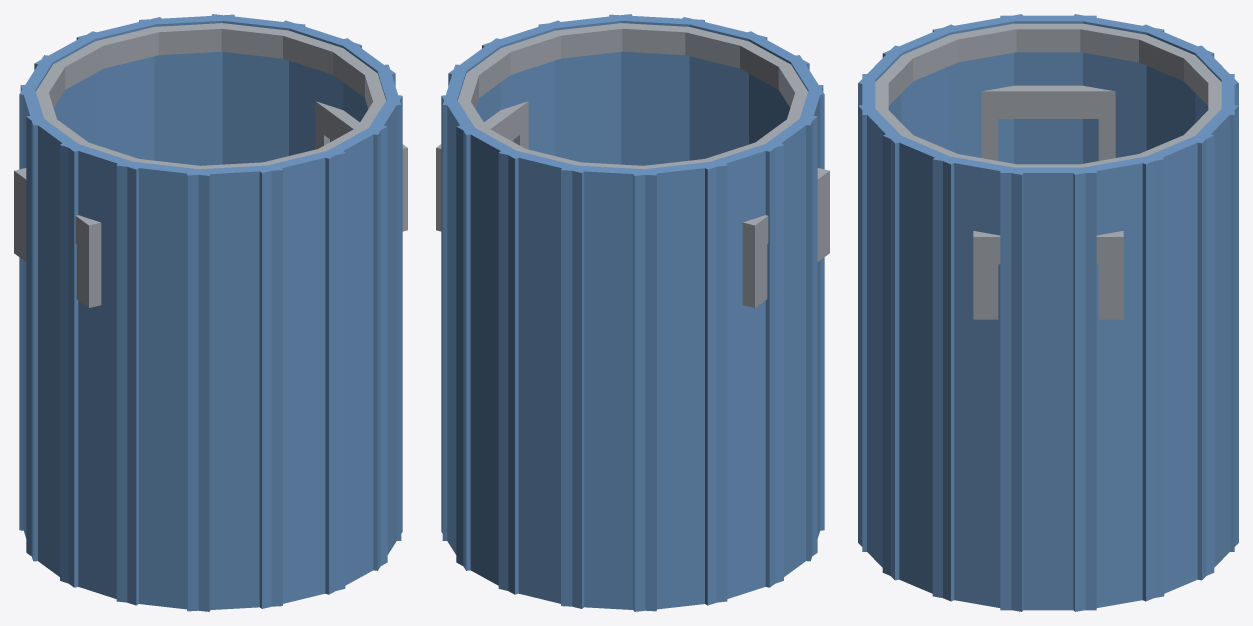
File: bucket.glb
3 views of the same model, side by side, from view 1: azimuth 30°, elevation 25°; view 2: azimuth 150°, elevation 25°; view 3: azimuth 270°, elevation 25° (orthographic).
Parts seen in each view (by area): view 1: bucket; view 2: bucket; view 3: bucket.
Boxes of the visible parts, x1,y1,x2,y2 form: bucket: (14, 14, 407, 611); bucket: (436, 14, 829, 611); bucket: (858, 14, 1238, 611).
Bounding box in the file's own units: 0.75 × 0.95 × 0.75.
